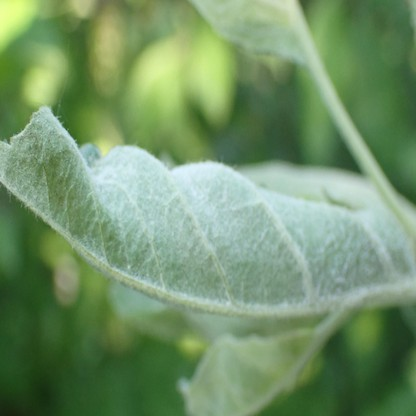powder: (2, 107, 397, 312)
